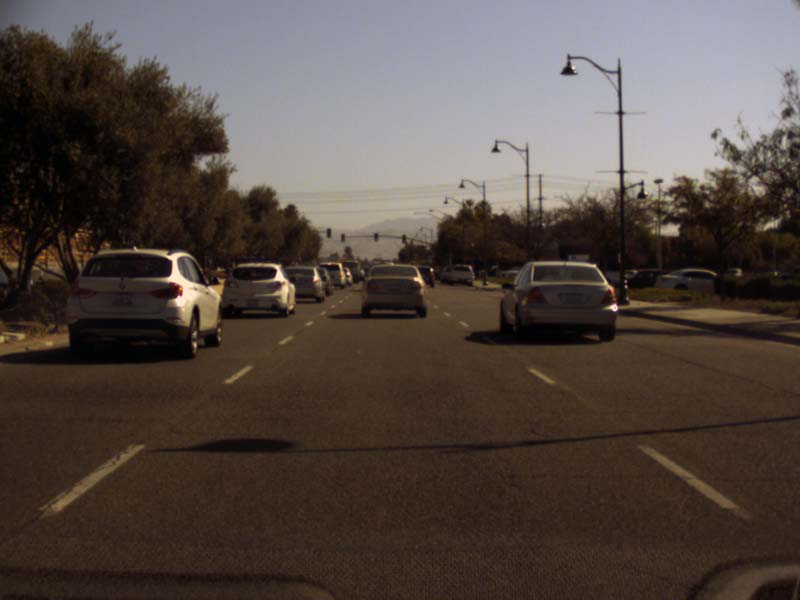Green: (401, 234, 406, 243), (340, 233, 345, 241), (444, 248, 448, 256), (374, 232, 377, 241)
